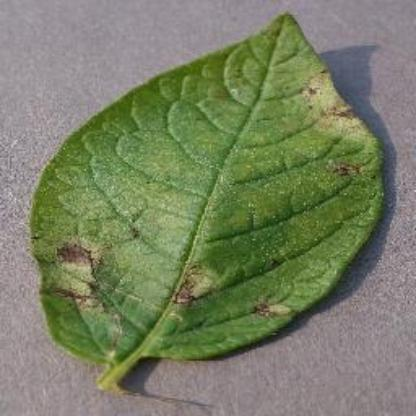Late-Blight: (26, 10, 387, 396)
